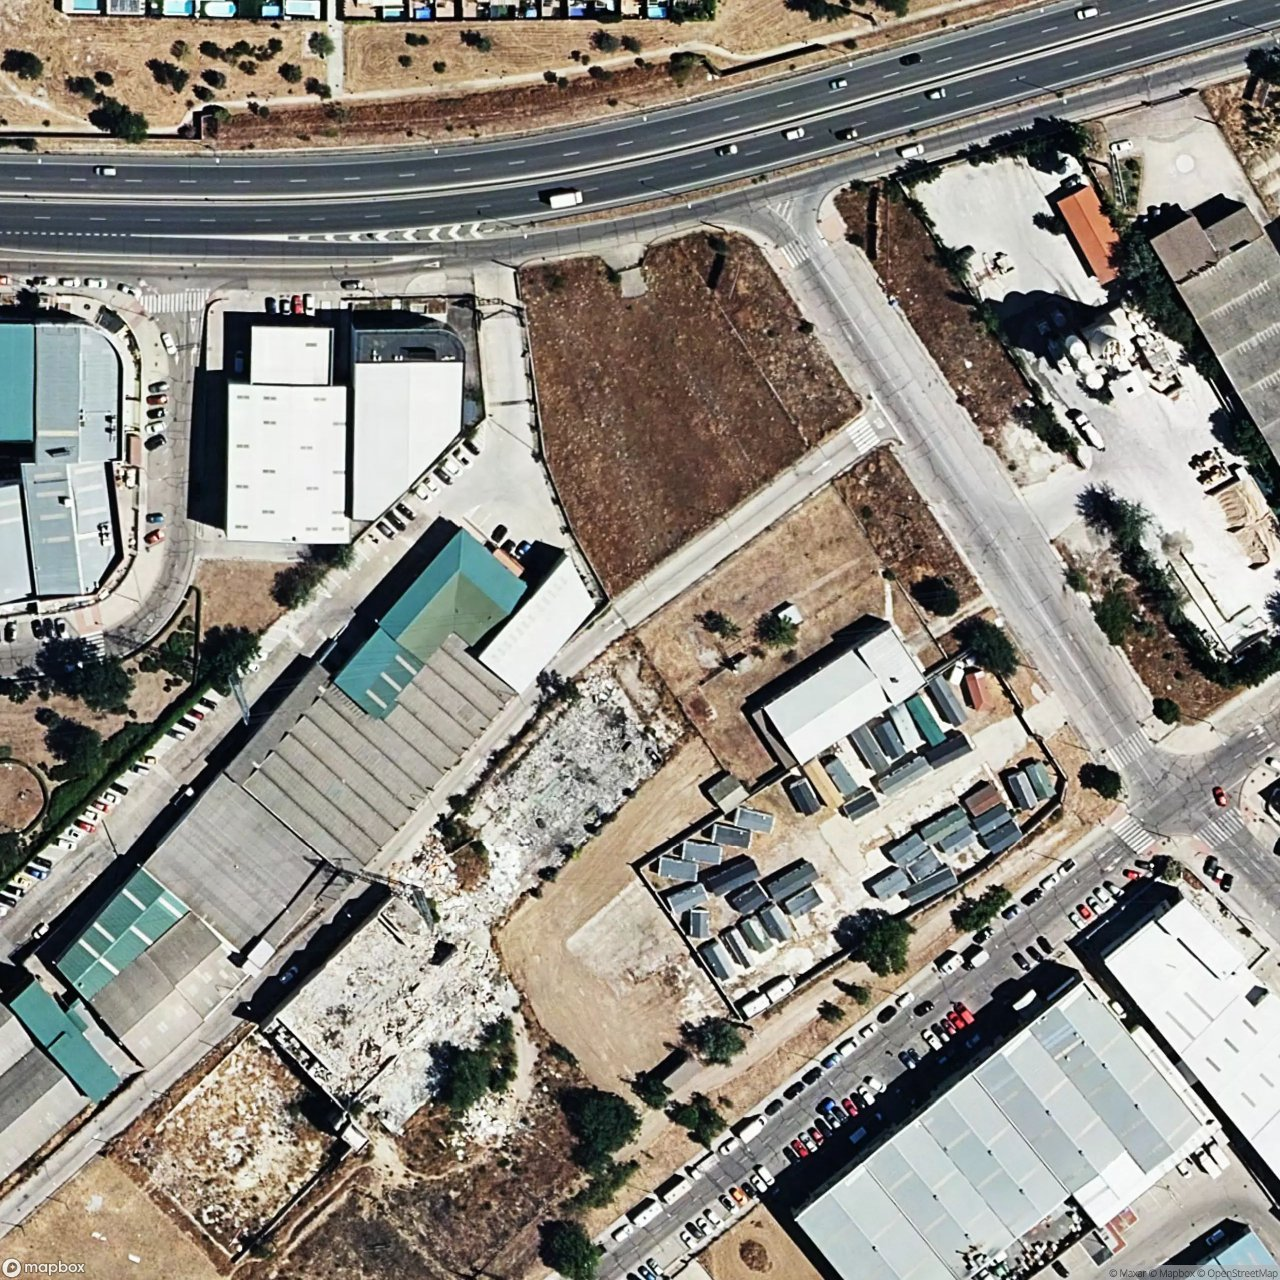dump_site: (381, 624, 697, 965), (107, 1029, 332, 1259)
